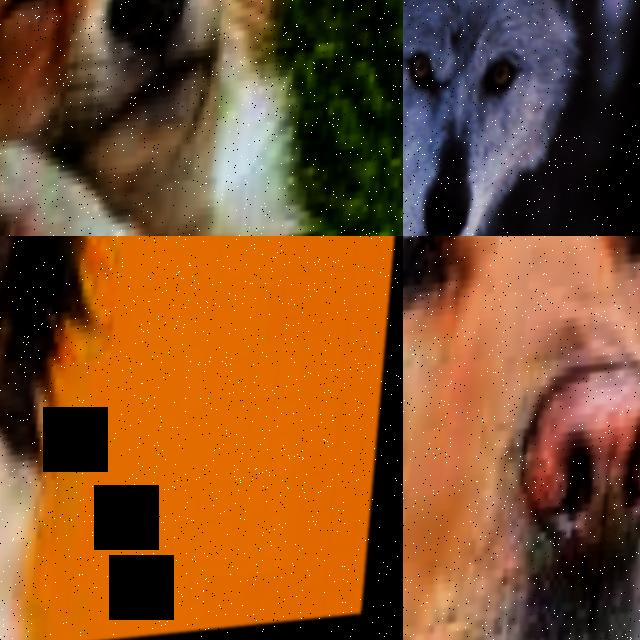dog: (403, 236, 640, 640), (0, 0, 403, 236), (0, 236, 204, 640)
wolf: (403, 0, 640, 236)
